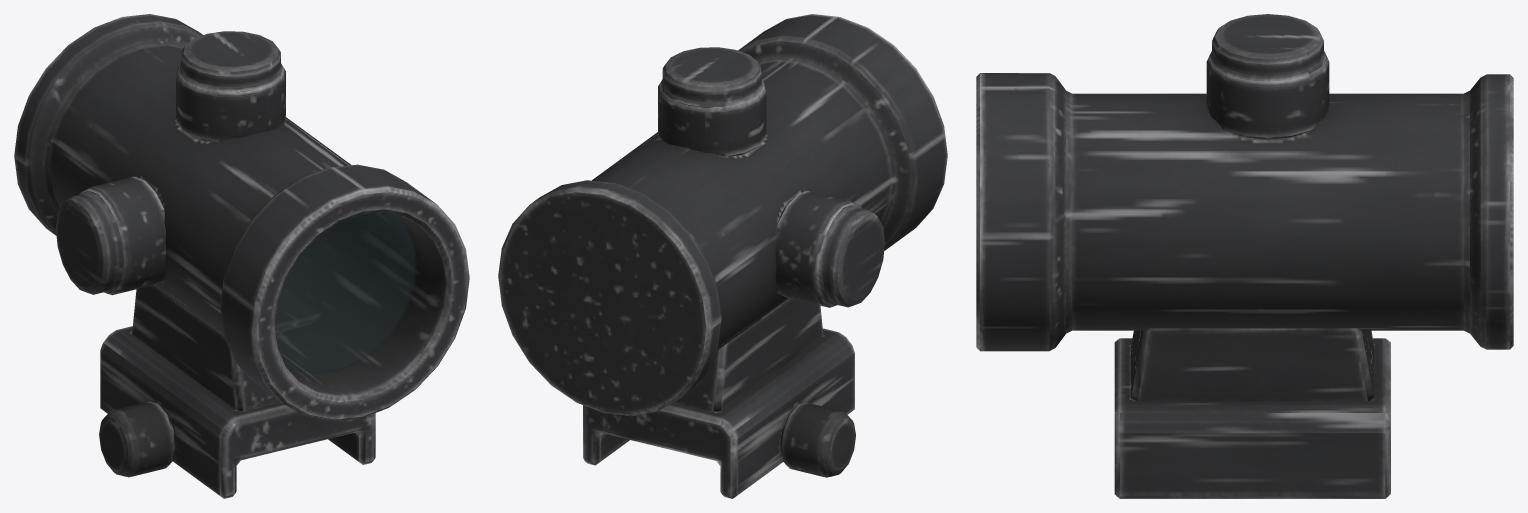
Rendered from red_dot.glb.
The picture shows the model from 3 angles, left to right: view 1: azimuth 30°, elevation 25°; view 2: azimuth 150°, elevation 25°; view 3: azimuth 270°, elevation 25°; orthographic projection. The views are drawn at different scales.
Parts seen in each view (by area): view 1: red_dot, red_dot_glass; view 2: red_dot; view 3: red_dot.
Part boxes in pixels (bbox=[...]): red_dot: bbox=[14, 14, 469, 498]; red_dot_glass: bbox=[275, 212, 416, 372]; red_dot: bbox=[498, 14, 947, 498]; red_dot: bbox=[976, 14, 1513, 498].
Bounding box in the file's own units: 0.0437 × 0.0625 × 0.07.
Materials: 3 (1 with a texture image).
